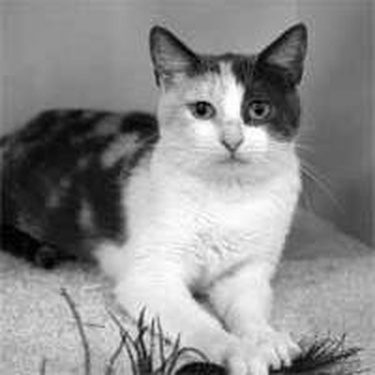cat: (2, 19, 310, 373)
